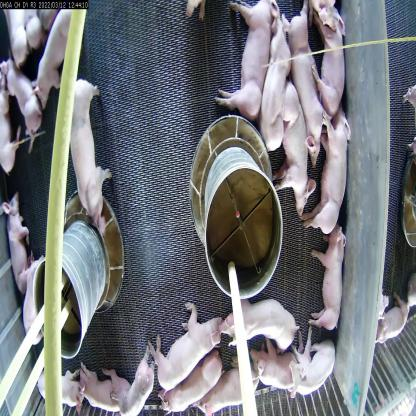Pig: (212, 0, 283, 127), (276, 17, 337, 151), (52, 79, 111, 204), (306, 0, 364, 120), (249, 10, 292, 157), (272, 85, 316, 227), (315, 108, 353, 241), (25, 7, 75, 102), (1, 50, 44, 141), (219, 287, 298, 336), (312, 228, 349, 329), (152, 318, 222, 368), (167, 349, 224, 407), (0, 188, 32, 287), (9, 251, 46, 330), (206, 362, 271, 403), (286, 359, 334, 410), (115, 358, 154, 414), (250, 359, 294, 406), (80, 369, 108, 416)
